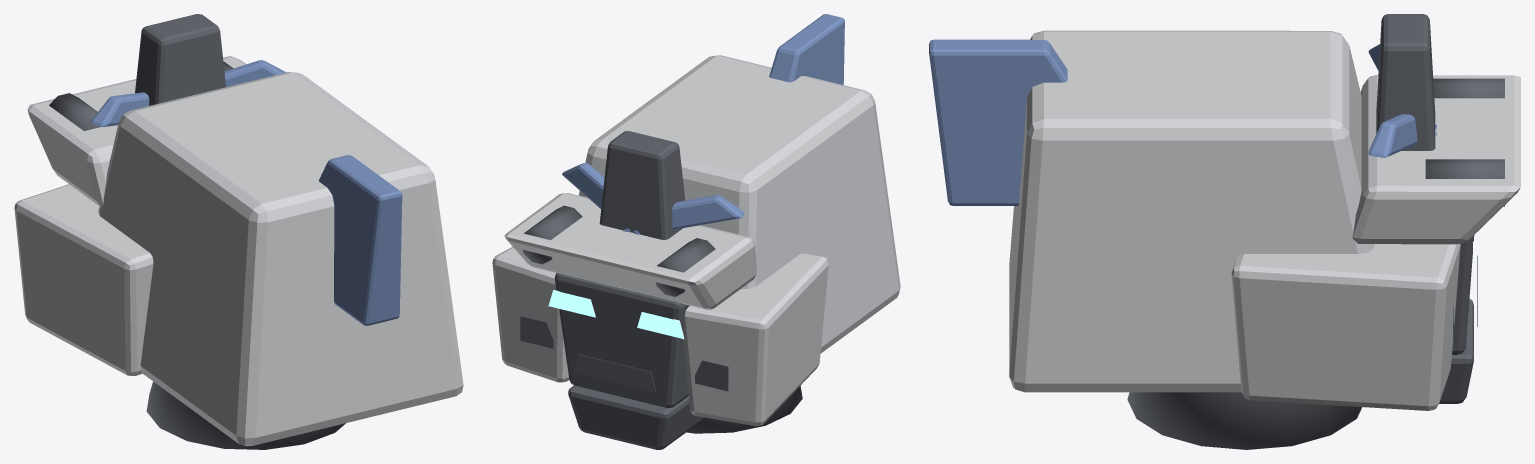
File: head_fast.glb
3 views of the same model, side by side, from view 1: azimuth 30°, elevation 25°; view 2: azimuth 150°, elevation 25°; view 3: azimuth 270°, elevation 25° (orthographic). The views are drawn at different scales.
Parts seen in each view (by area): view 1: skull, cheek, rear_fin, sensor_base, brow, neck, sensor_blade, vulcan, sensor_blade.001; view 2: skull, cheek, brow, faceplate, sensor_base, cheek.001, chin, rear_fin, sensor_blade, mouth_vent, vulcan, vulcan.001 (+6 smaller); view 3: skull, cheek.001, brow, rear_fin, neck, sensor_base, vulcan.001, chin, faceplate, sensor_blade.001, vulcan.
Part boxes in pixels (x1,y1,x2,y2): skull: (98,72,463,445); cheek: (14,184,153,375); rear_fin: (319,155,402,325); sensor_base: (135,14,225,105); brow: (27,56,246,207); neck: (146,381,345,449); sensor_blade: (91,92,149,127); vulcan: (49,93,101,130); sensor_blade.001: (224,60,286,86); skull: (579,55,900,353); cheek: (683,253,828,426); brow: (504,193,756,309); faceplate: (554,272,689,407); sensor_base: (599,131,684,239); cheek.001: (492,247,569,382); chin: (568,385,705,449); rear_fin: (769,14,844,84); sensor_blade: (622,195,744,232); mouth_vent: (573,354,656,392); vulcan: (655,238,715,296); vulcan.001: (523,205,582,264); skull: (1009,30,1373,392); cheek.001: (1231,244,1460,410); brow: (1352,75,1520,244); rear_fin: (929,39,1067,205); neck: (1127,392,1362,449); sensor_base: (1376,14,1435,150); vulcan.001: (1425,159,1504,206); chin: (1439,299,1473,403); faceplate: (1452,235,1474,354); sensor_blade.001: (1368,114,1436,157); vulcan: (1433,78,1504,98).
Bounding box in the file's own units: 1.69 × 1.75 × 2.53.
